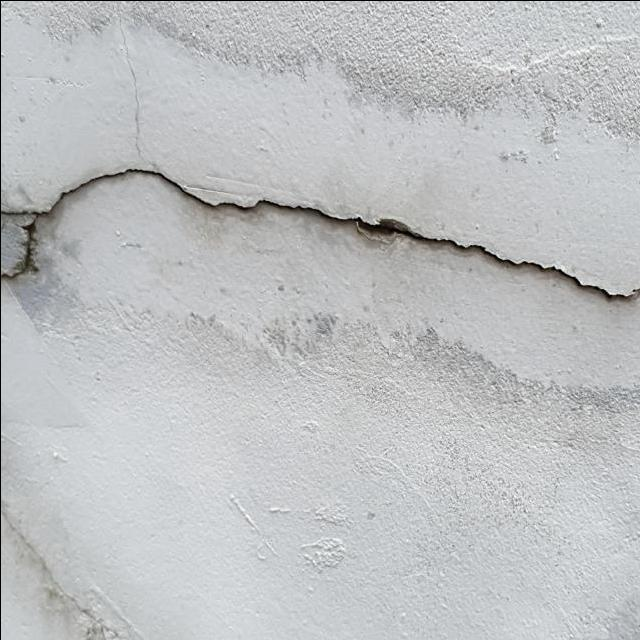SurfaceCrack: (0, 135, 639, 342)
